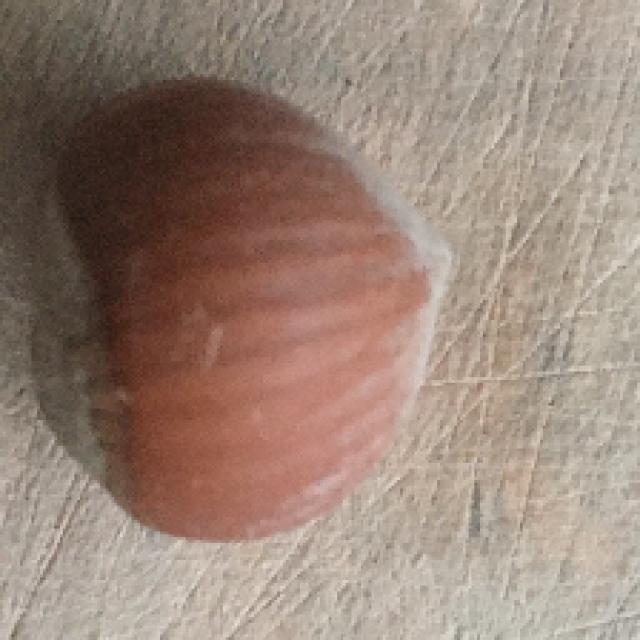qualityHazelnut: (28, 72, 461, 541)
